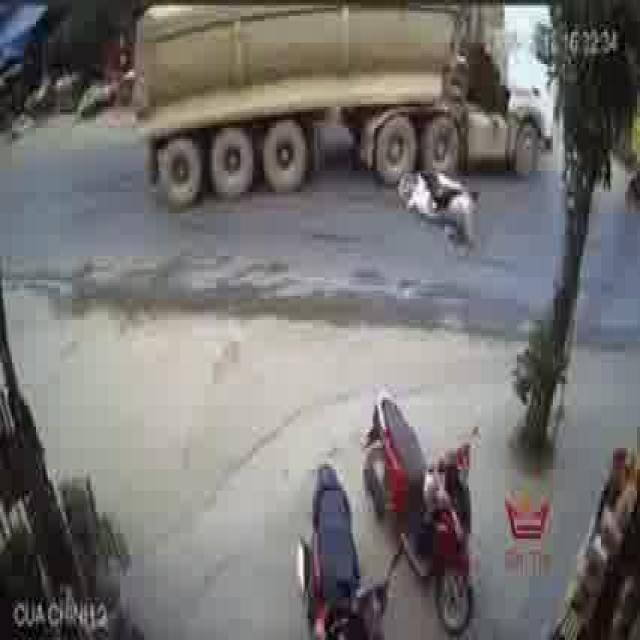multiple_accident: (363, 109, 513, 265)
